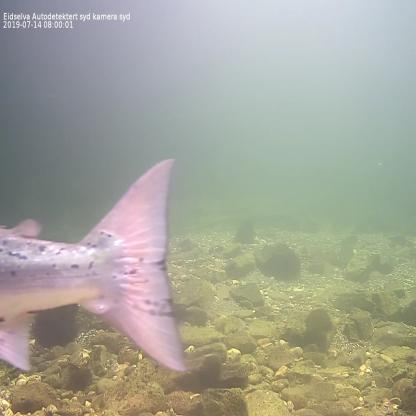salmon: (0, 157, 190, 375)
